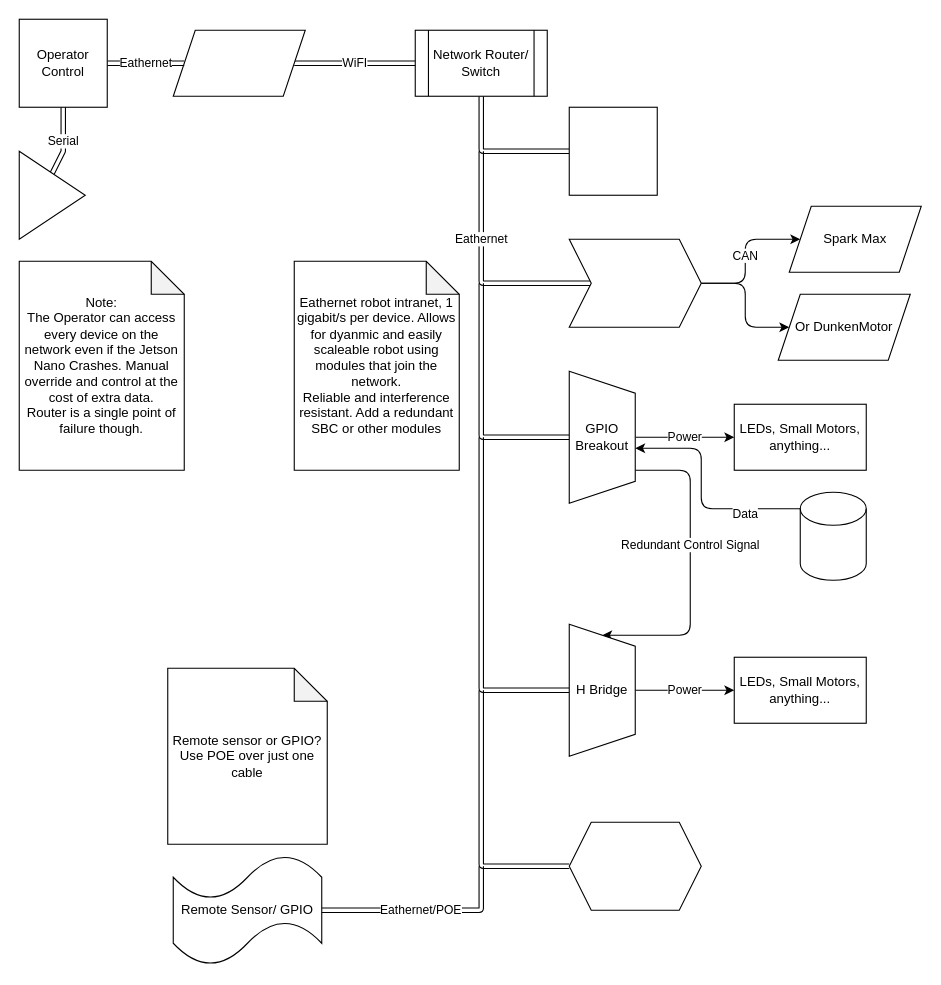
This 941x985 diagram has some shape labels left out. The shapes that lost their labels are listed below. From the top down, each one's box as (x1, y1, x2, y2) in pixels, then its label:
(172, 29, 305, 96): Competition Logger/Delay
(568, 106, 657, 195): Jetson Nano/ SBC
(18, 150, 85, 239): Wheel
(568, 238, 701, 327): Eathernet To CAN
(799, 491, 866, 580): LiDAR
(568, 821, 701, 910): Camera
